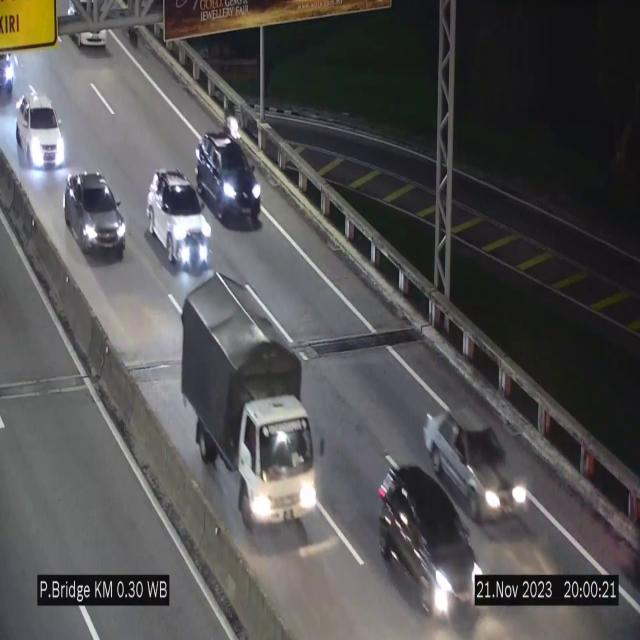Car: (378, 459, 485, 627), (421, 403, 532, 522), (193, 130, 262, 228), (146, 170, 211, 274), (64, 172, 126, 258), (14, 91, 69, 170)
Motorcycle: (224, 92, 243, 148)
Truck: (176, 269, 326, 537)
